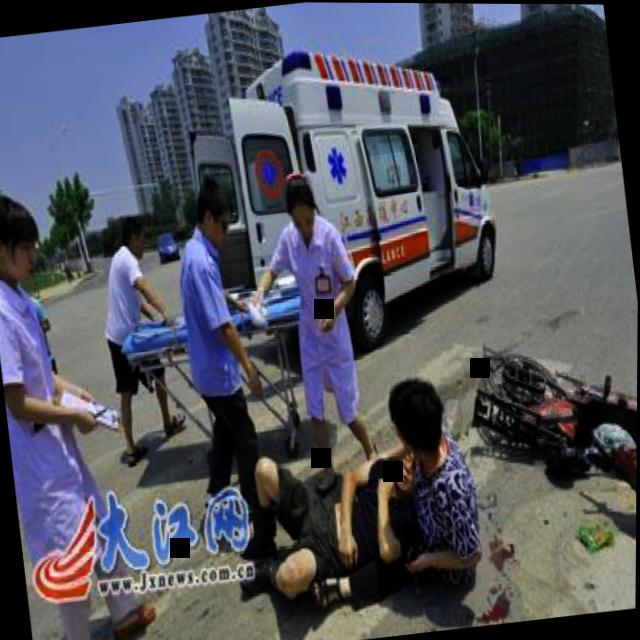Fall-Detected: (217, 420, 425, 627)
